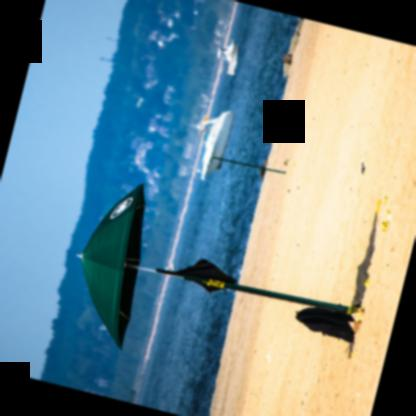backpack: (295, 306, 356, 342)
handbag: (156, 256, 237, 292)
